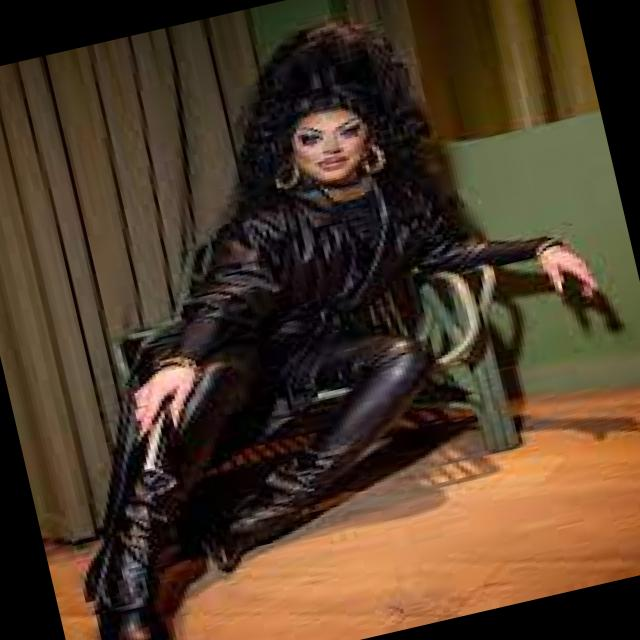Jacket: (104, 110, 623, 494)
